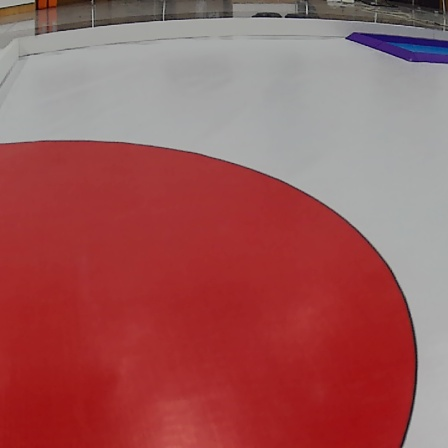blue_aim: (346, 22, 448, 66)
red_base: (1, 140, 419, 447)
